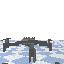drone: (1, 37, 52, 63)
